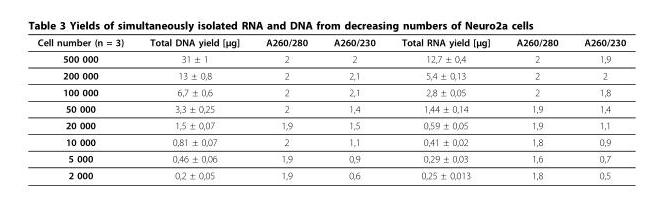table: (36, 36, 625, 180)
table column: (136, 36, 252, 180), (387, 36, 502, 180), (36, 36, 136, 180), (252, 36, 320, 180), (502, 36, 570, 180), (320, 36, 387, 180), (570, 36, 625, 180)
table column header: (36, 36, 625, 50)
table row: (36, 66, 625, 83), (36, 83, 625, 100), (36, 116, 625, 133), (36, 133, 625, 150), (36, 50, 625, 66), (36, 100, 625, 116), (36, 150, 625, 166), (36, 36, 625, 50), (36, 166, 625, 180)
